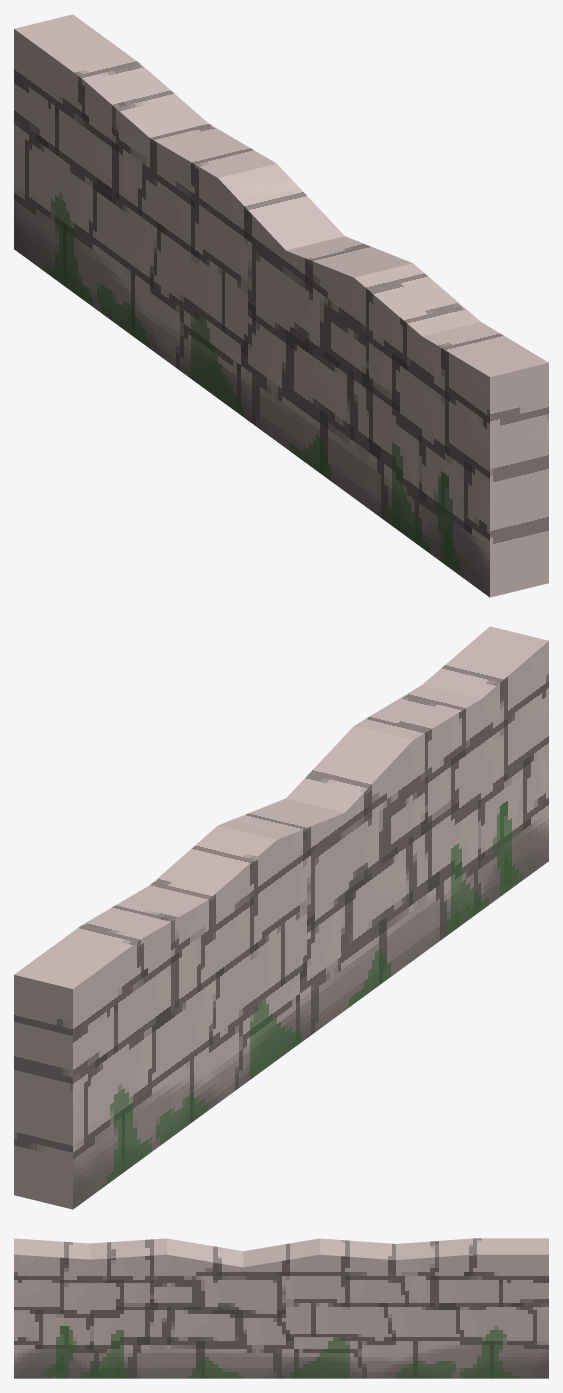
The model's file is stone_wall.glb.
3 views of the same model, one above another, from view 1: azimuth 30°, elevation 25°; view 2: azimuth 150°, elevation 25°; view 3: azimuth 270°, elevation 25° (orthographic). The views are drawn at different scales.
Parts seen in each view (by area): view 1: Cube.022; view 2: Cube.022; view 3: Cube.022.
Boxes of the visible parts, x1,y1,x2,y2 form: Cube.022: (14, 14, 548, 597); Cube.022: (14, 626, 548, 1209); Cube.022: (14, 1238, 548, 1378).
Size of the model in its own units: 0.1068 by 0.381 by 1.49.
1 material, 1 textured.
